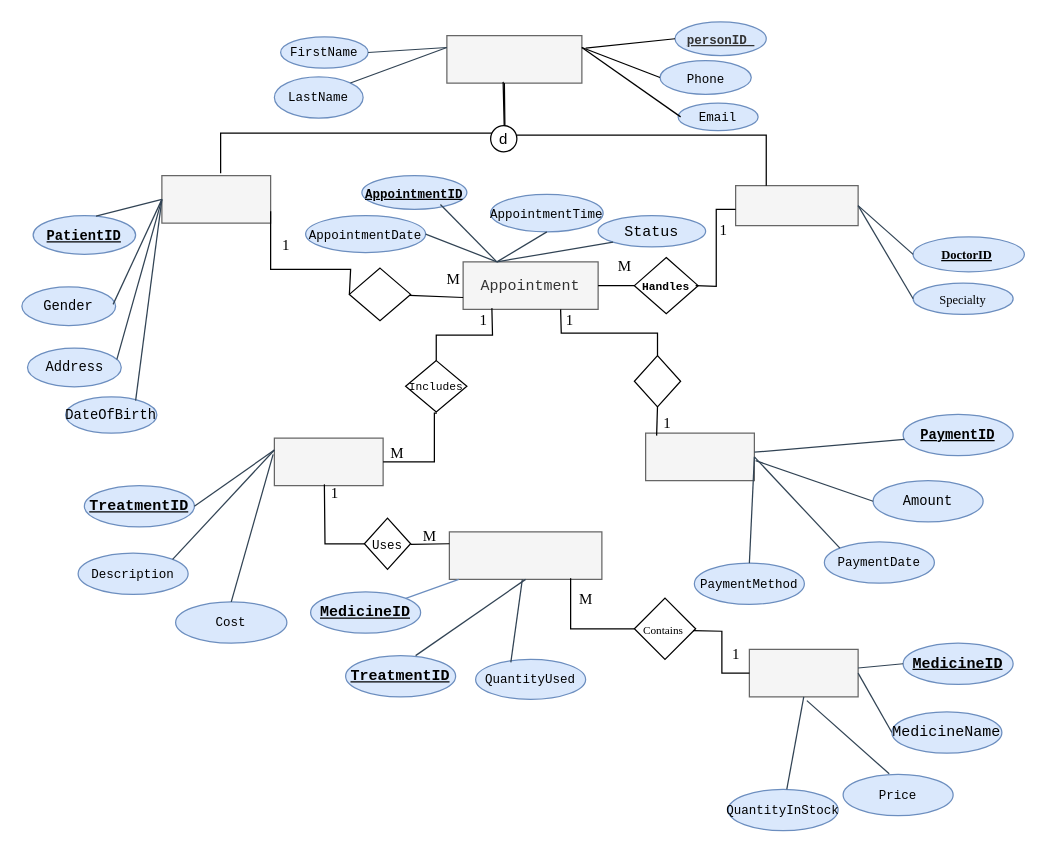
The diagram is 1046 pixels wide and 853 high, and some of its shapes have lost their labels. Here are the shapes that lost their labels. From the top down, the box of each, then its label:
(446, 34, 582, 83): person
(161, 174, 271, 223): Patient
(734, 184, 858, 226): Doctor
(348, 267, 411, 321): Books
(633, 354, 681, 407): Has
(273, 437, 383, 486): Treatment
(644, 432, 754, 481): Payment
(448, 531, 602, 579): TreatmentMedicine
(748, 648, 858, 697): Medicine
